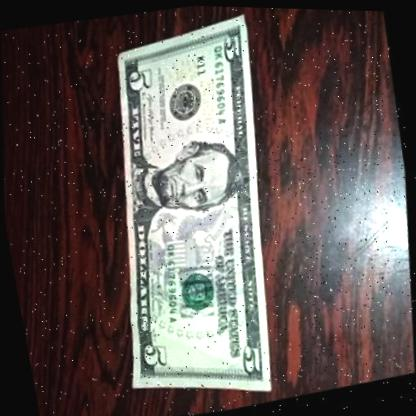five-front: (64, 1, 321, 415)
